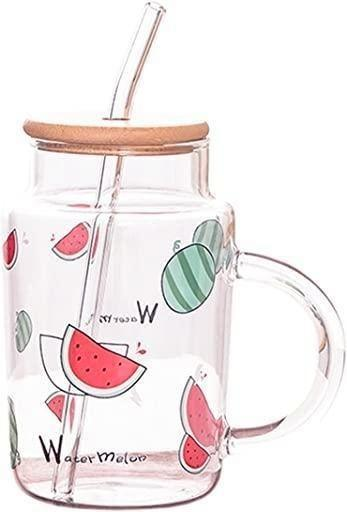glass-mug: (3, 103, 347, 512)
